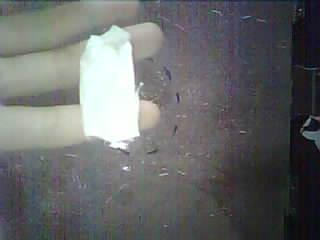paper: (79, 25, 139, 149)
